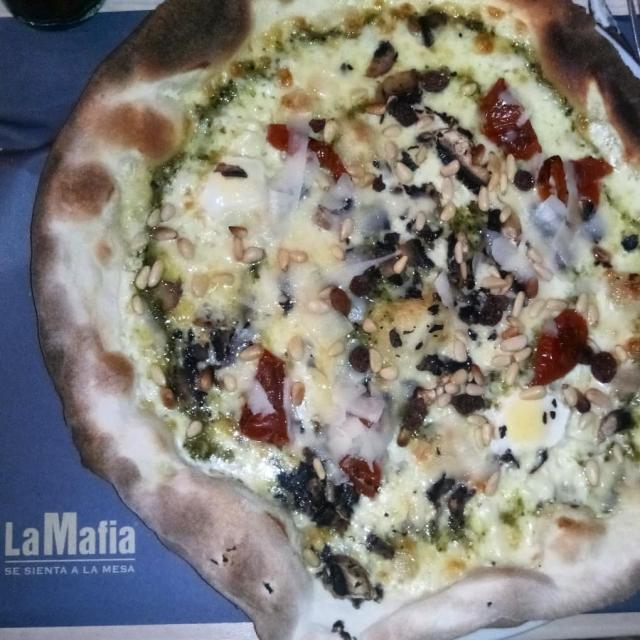mushrooms: (272, 458, 356, 534), (414, 121, 496, 197), (317, 544, 376, 608), (372, 67, 424, 127), (426, 469, 477, 526), (180, 319, 233, 371), (446, 223, 474, 282), (598, 406, 636, 440), (365, 39, 396, 80)
pizza: (32, 0, 640, 638)
tomatoes: (474, 76, 547, 163), (238, 345, 291, 456), (262, 124, 350, 182), (530, 308, 592, 389), (569, 156, 609, 218), (534, 152, 570, 214), (340, 450, 380, 502)
